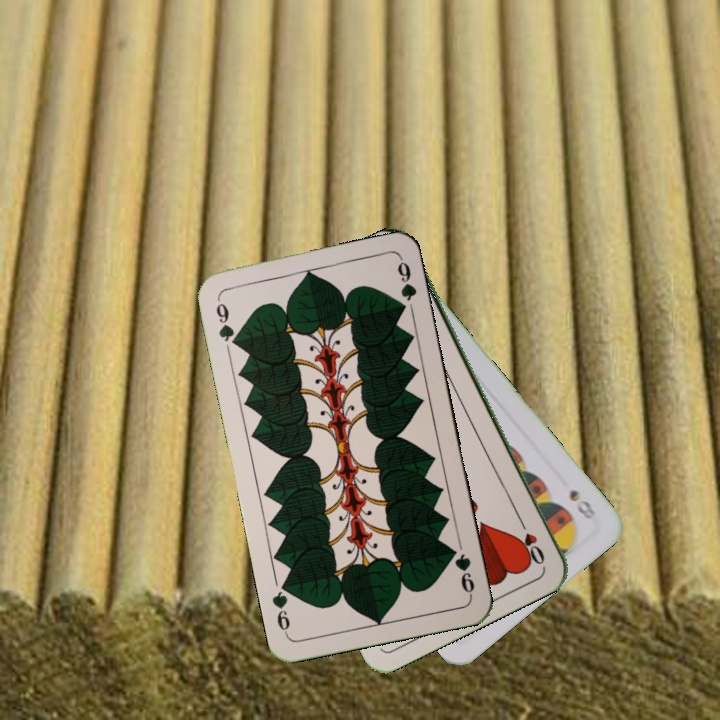G9: (445, 542, 477, 599), (212, 294, 241, 350)
HO: (514, 513, 547, 568)
S8: (565, 485, 599, 522)
